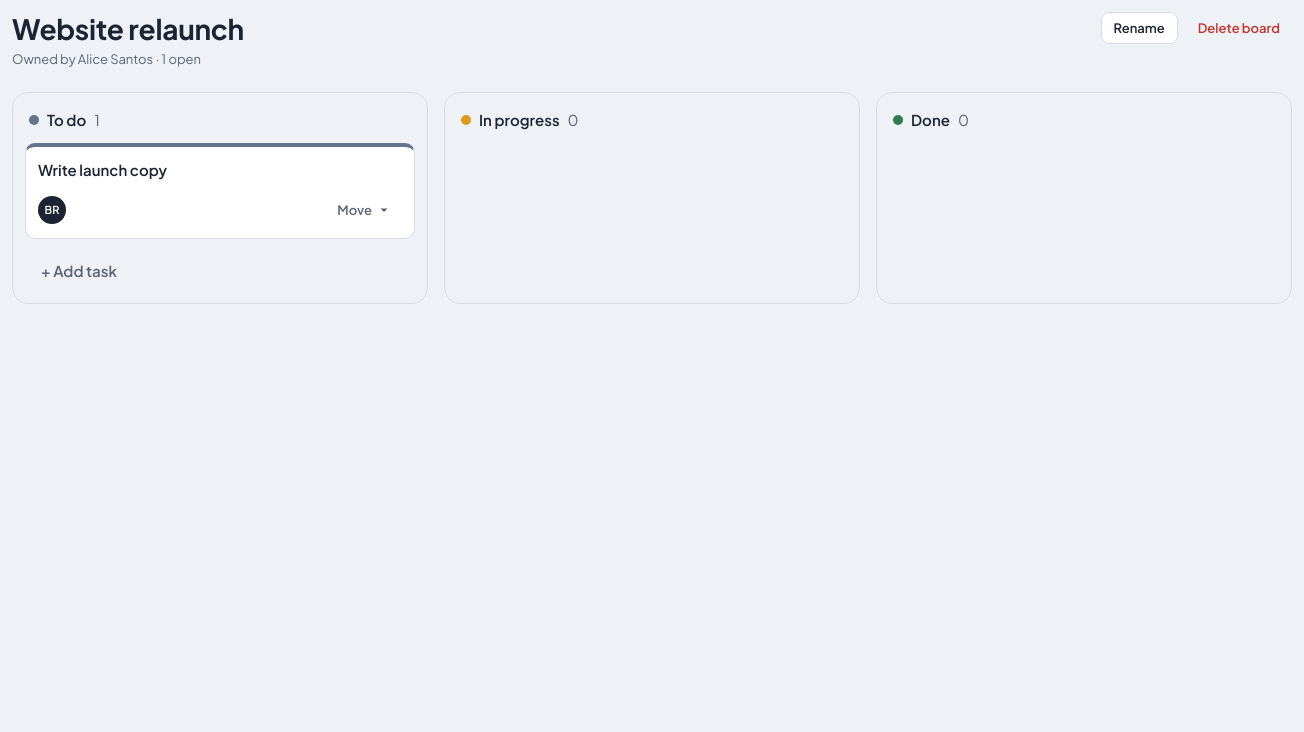
Test case: BoardView › returns the task to its lane when the server rejects the move
Click the button with aria-label "Move Write launch copy": (364, 210) [325,194,402,226]
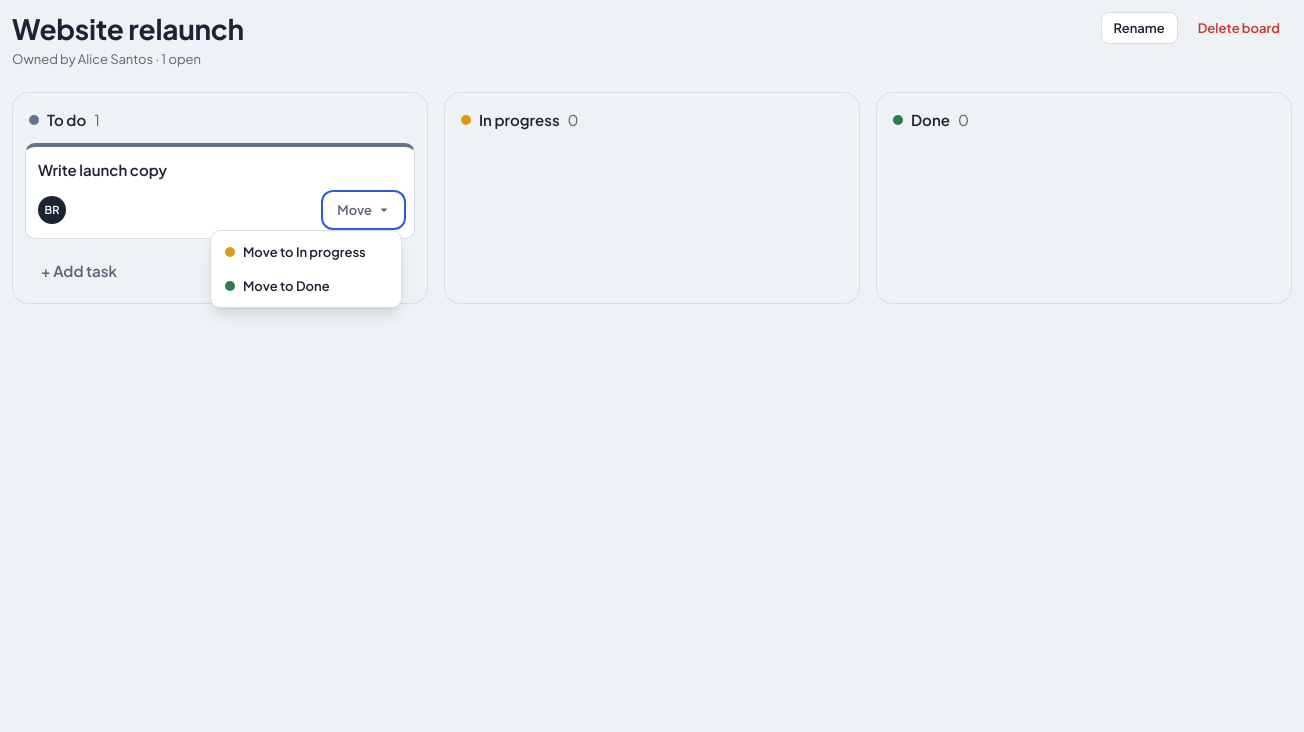
Click the button "Move to In progress": (306, 252) [215,235,397,269]
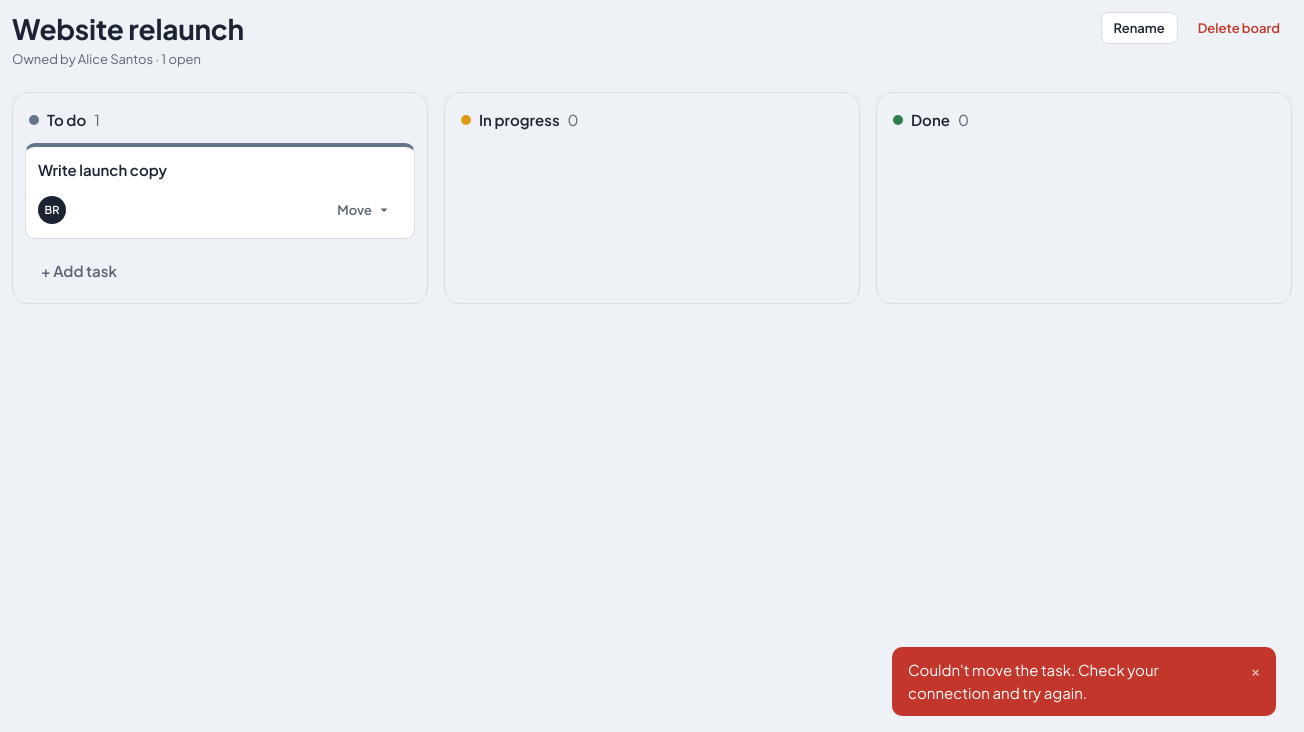
Check: the link "Write launch copy" is shown, box [38,160,167,179]
Check: the message shows "Couldn't move the task", box [908,660,1159,702]
